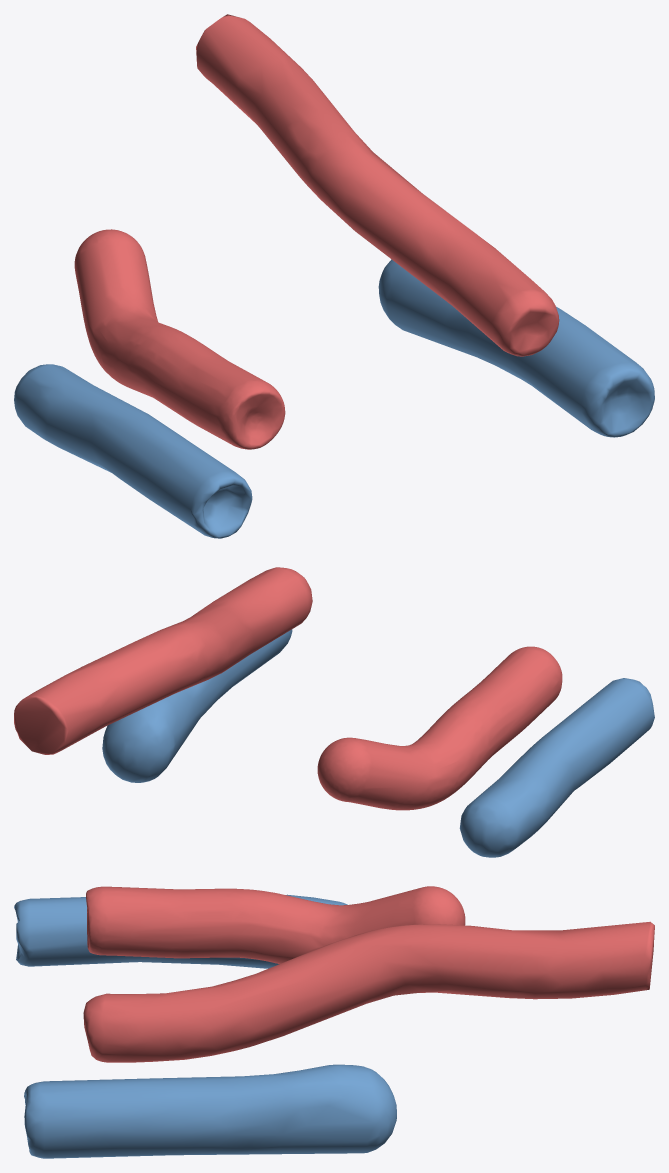
The model's file is cou-vaisseaux.glb.
The picture shows the model from 3 angles, top to bottom: view 1: azimuth 30°, elevation 25°; view 2: azimuth 150°, elevation 25°; view 3: azimuth 270°, elevation 25°; orthographic projection. The views are drawn at different scales.
Parts seen in each view (by area): view 1: artere_carotide_commune_gauche, artere_carotide_commune_droite, veine_jugulaire_interne_droite, veine_jugulaire_interne_gauche; view 2: artere_carotide_commune_gauche, artere_carotide_commune_droite, veine_jugulaire_interne_droite, veine_jugulaire_interne_gauche; view 3: artere_carotide_commune_gauche, veine_jugulaire_interne_gauche, artere_carotide_commune_droite, veine_jugulaire_interne_droite.
Part boxes in pixels (x1=…): artere_carotide_commune_gauche: x1=196, y1=14, x2=559, y2=356; artere_carotide_commune_droite: x1=74, y1=229, x2=285, y2=449; veine_jugulaire_interne_droite: x1=14, y1=364, x2=252, y2=538; veine_jugulaire_interne_gauche: x1=378, y1=259, x2=654, y2=437; artere_carotide_commune_gauche: x1=14, y1=567, x2=312, y2=754; artere_carotide_commune_droite: x1=317, y1=646, x2=562, y2=810; veine_jugulaire_interne_droite: x1=459, y1=678, x2=654, y2=857; veine_jugulaire_interne_gauche: x1=102, y1=629, x2=292, y2=782; artere_carotide_commune_gauche: x1=83, y1=921, x2=654, y2=1062; veine_jugulaire_interne_gauche: x1=24, y1=1064, x2=396, y2=1158; artere_carotide_commune_droite: x1=86, y1=886, x2=465, y2=963; veine_jugulaire_interne_droite: x1=14, y1=894, x2=347, y2=968.
Bounding box in the file's own units: 62.29 × 26.3 × 74.35.
